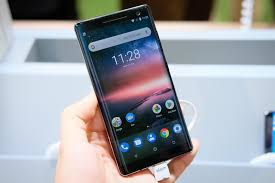nokia: (72, 3, 193, 174)
